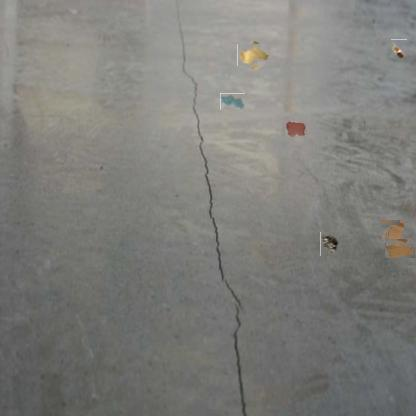dirty: (240, 42, 268, 69), (385, 238, 415, 258), (380, 219, 404, 243), (320, 232, 339, 256), (392, 39, 408, 60)
liquid: (220, 93, 245, 110), (285, 122, 307, 140)
